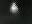person: (10, 3, 20, 18)
